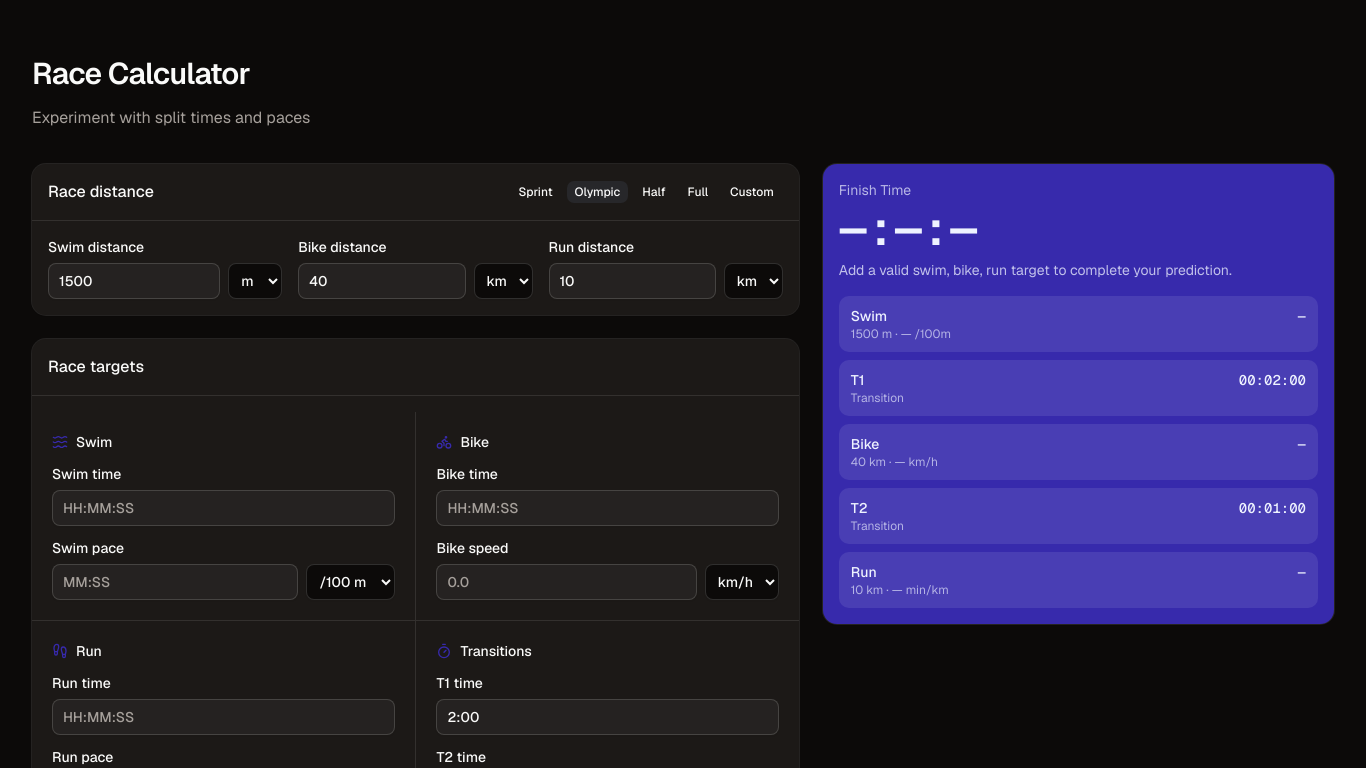
Test: RaceTimeCalculator › converts existing values when units change
This screenshot has width=1366, height=768.
In the field labelled "Bike speed": (567, 582) x1=436 y1=564 x2=697 y2=600, type "32.2"
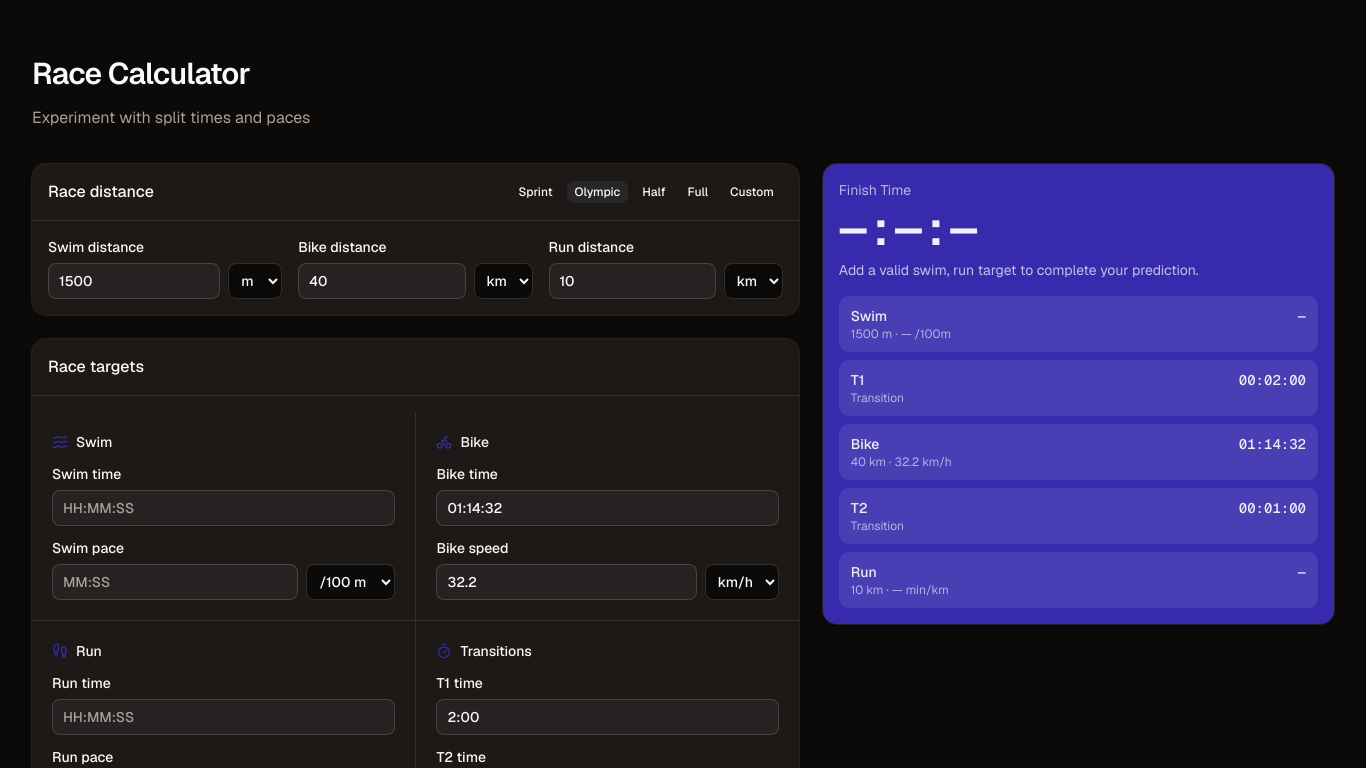
Select "mph" in the dropdown named "Bike speed unit": (742, 582) x1=705 y1=564 x2=779 y2=600
(page scrolled)
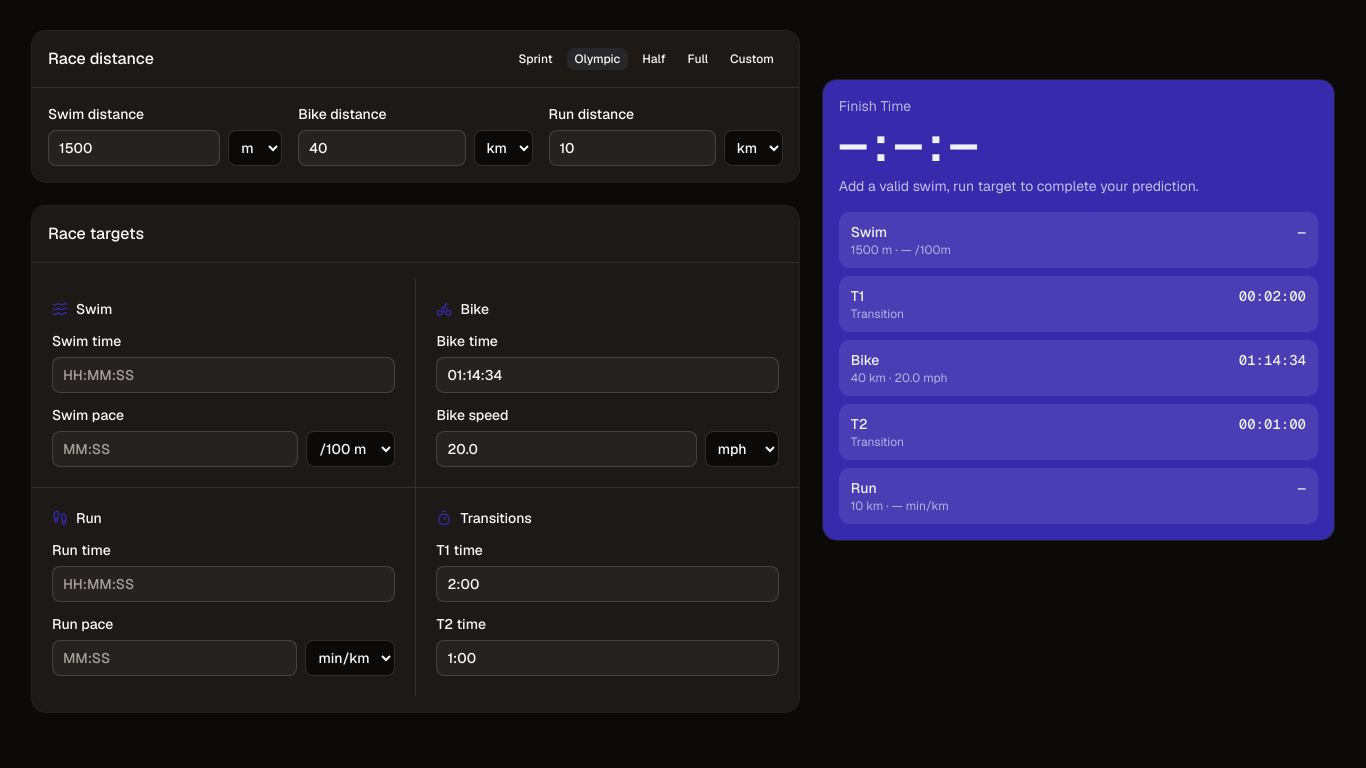
Now the field labelled "Bike speed" holds "20.0", box x1=436 y1=431 x2=697 y2=467
In the field labelled "Run pace": (175, 658) x1=52 y1=640 x2=297 y2=676, type "5:00"
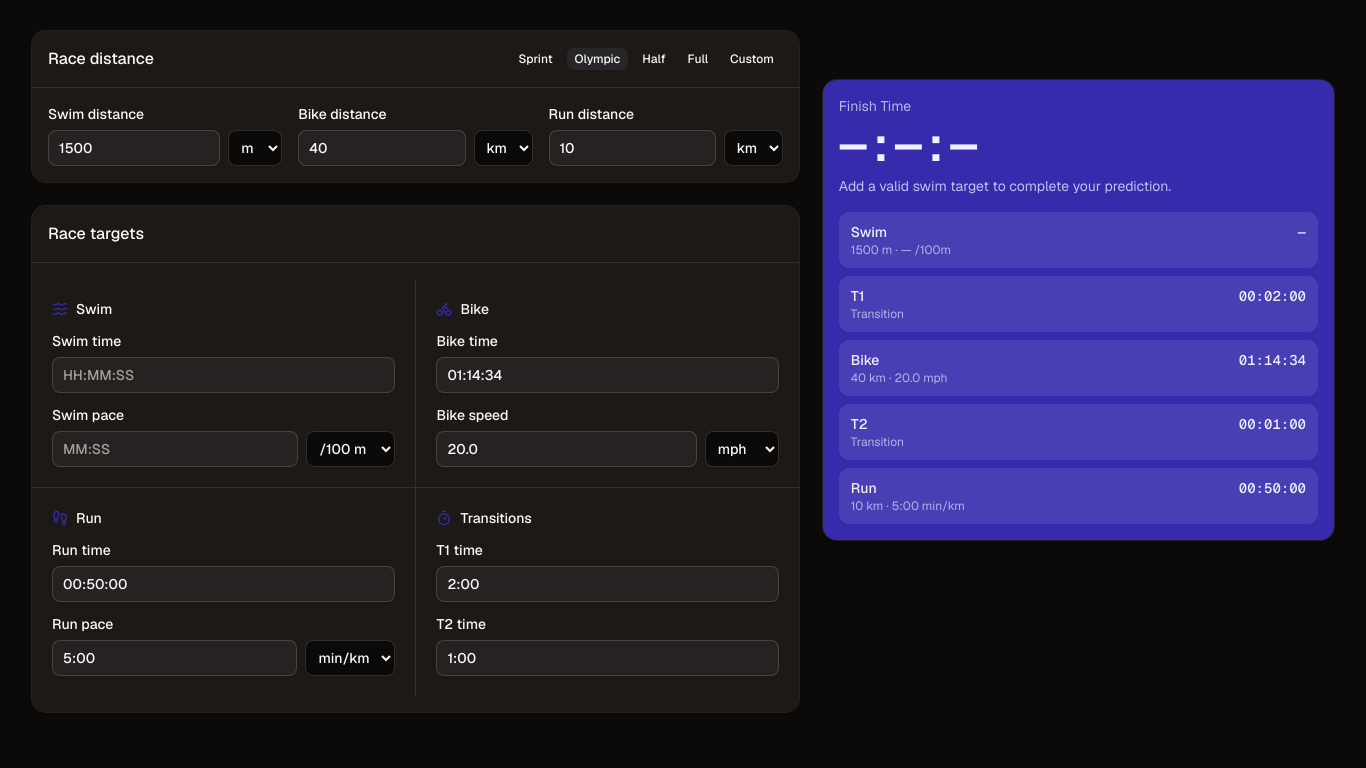
Select "min/mi" in the dropdown named "Run pace unit": (350, 658) x1=305 y1=640 x2=395 y2=676
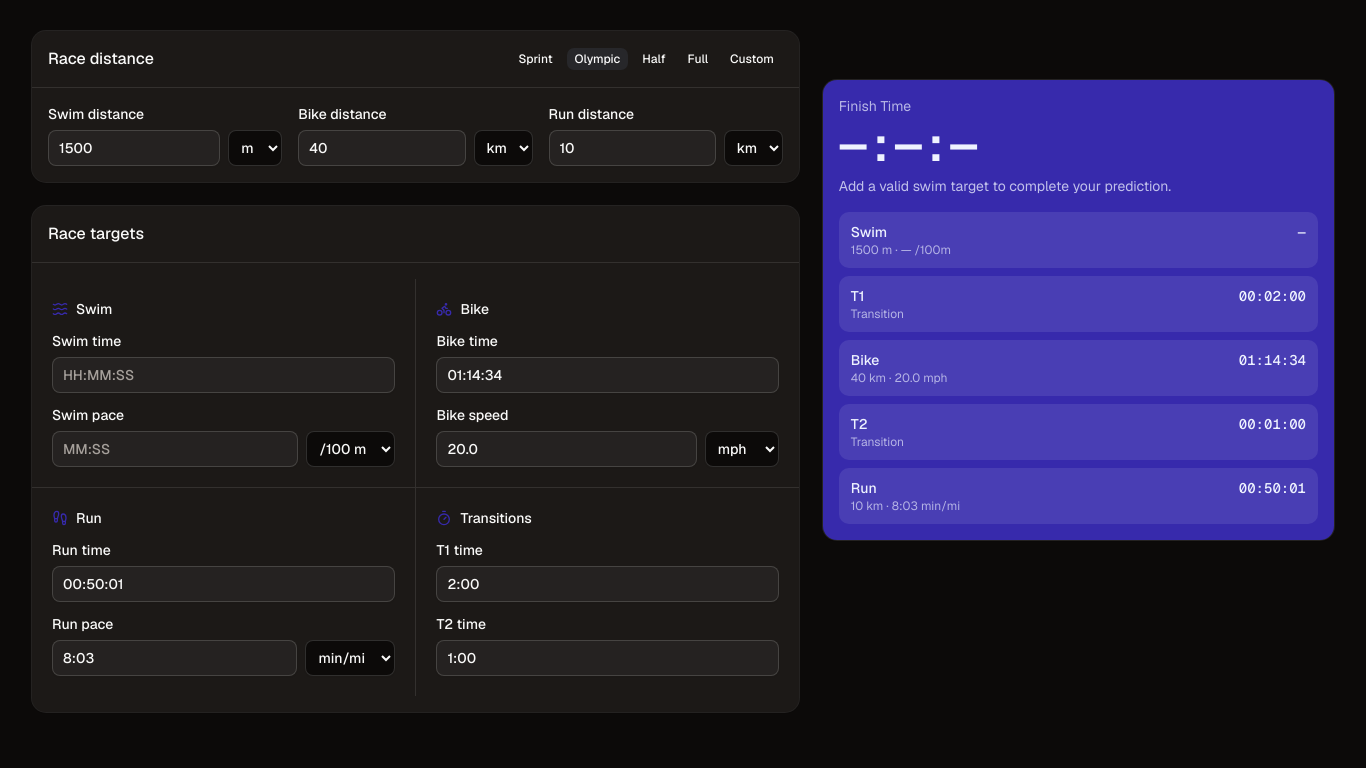
Now the field labelled "Run pace" holds "8:03", box x1=52 y1=640 x2=297 y2=676
